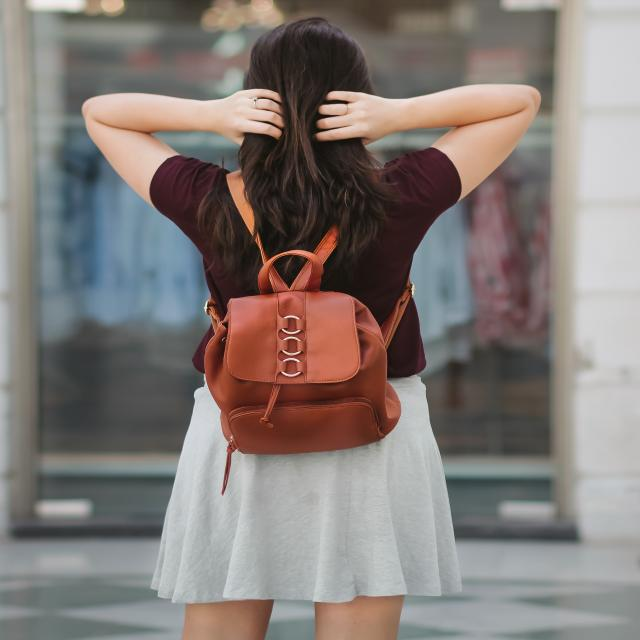backpack: (197, 166, 414, 453)
